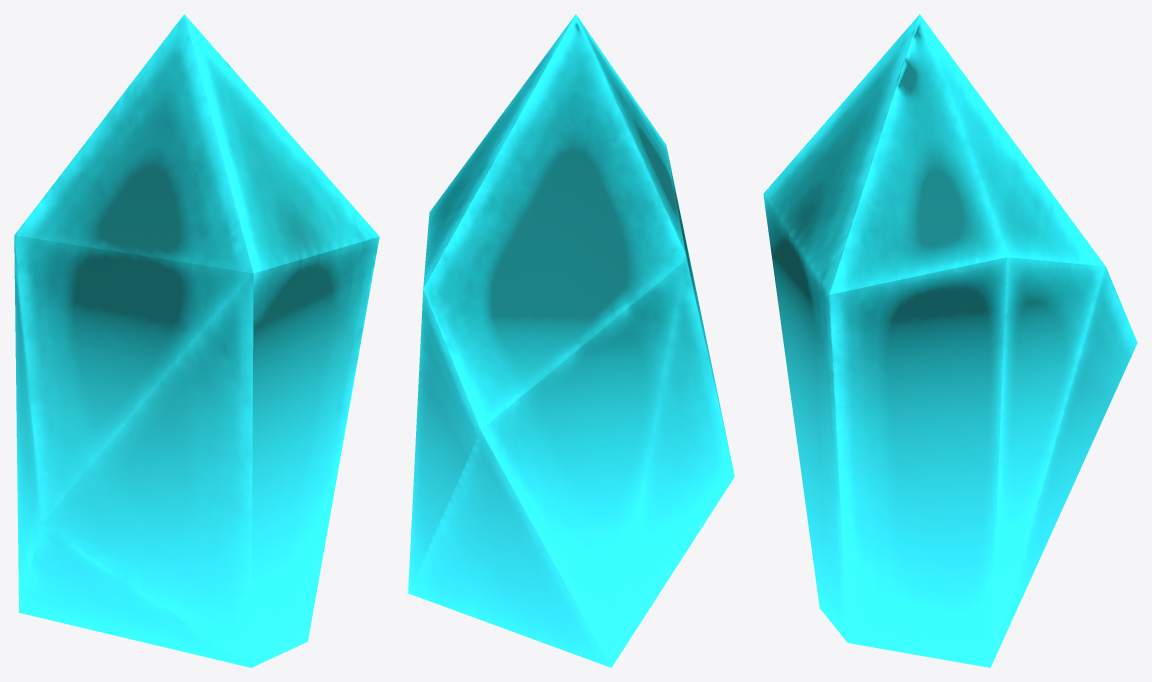
The model's file is crystal_piece_006.fbx.
3 views of the same model, side by side, from view 1: azimuth 30°, elevation 25°; view 2: azimuth 150°, elevation 25°; view 3: azimuth 270°, elevation 25° (orthographic). The views are drawn at different scales.
Visible parts, largest first — view 1: crystal_piece_006; view 2: crystal_piece_006; view 3: crystal_piece_006.
Boxes of the visible parts, bbox=[...] form: crystal_piece_006: bbox=[14, 14, 379, 667]; crystal_piece_006: bbox=[408, 14, 734, 667]; crystal_piece_006: bbox=[763, 14, 1137, 667].
Bounding box in the file's own units: 0.4234 × 0.8297 × 0.4776.
